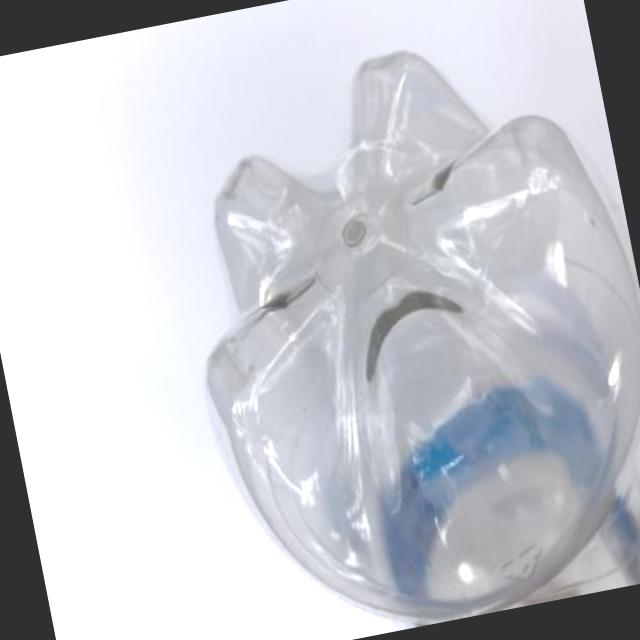Recycle: (151, 3, 640, 640)
